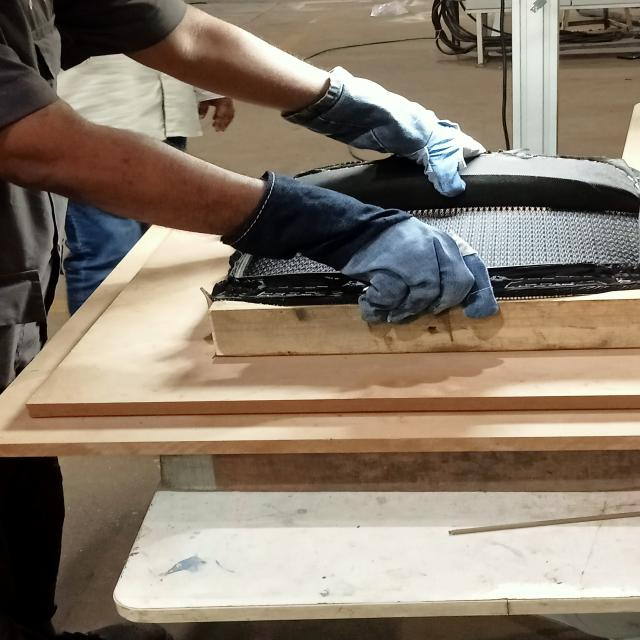Gloves-Detection: (266, 170, 506, 344), (319, 68, 477, 183)
